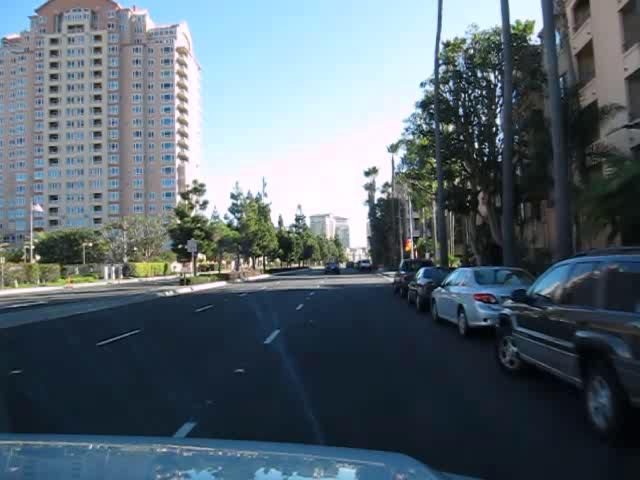speedLimitUrdbl: (186, 238, 198, 252)
